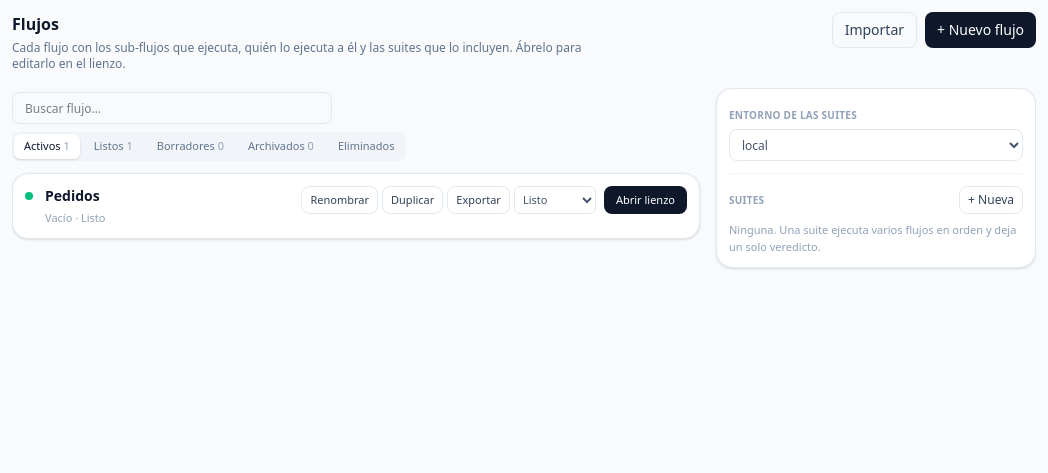
Test: la papelera de los flujos › pide la lista borrada, y la fila no ofrece lienzo, renombrar ni estado
Expected: the text "Pedidos" is shown, x1=45 y1=186 x2=100 y2=204
Expected: the link "Abrir lienzo" is shown, x1=604 y1=186 x2=687 y2=214
Click the button "Eliminados" at (366, 146), box x1=328 y1=134 x2=404 y2=158
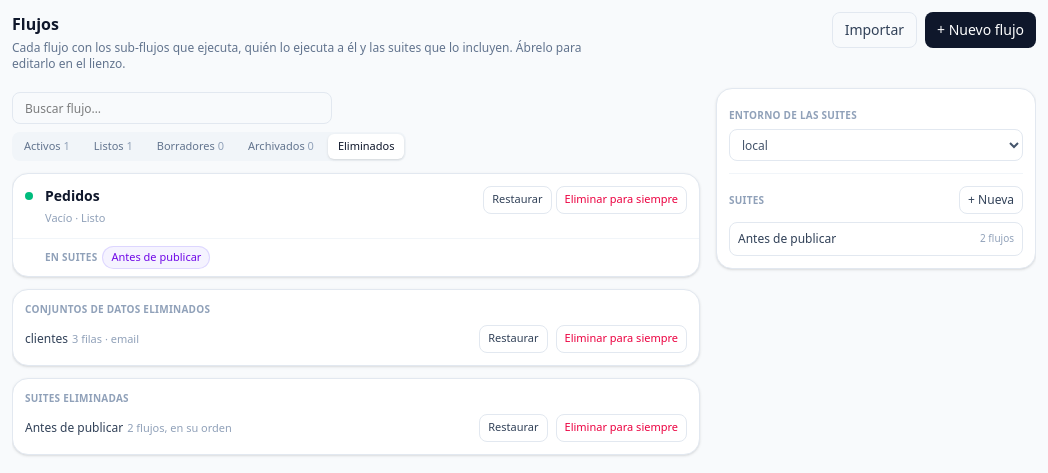
Expected: the button "Restaurar" in the row of "Pedidos" is shown, x1=483 y1=186 x2=552 y2=214
Expected: the link "Abrir lienzo" is gone
Expected: the button "Renombrar" is gone
